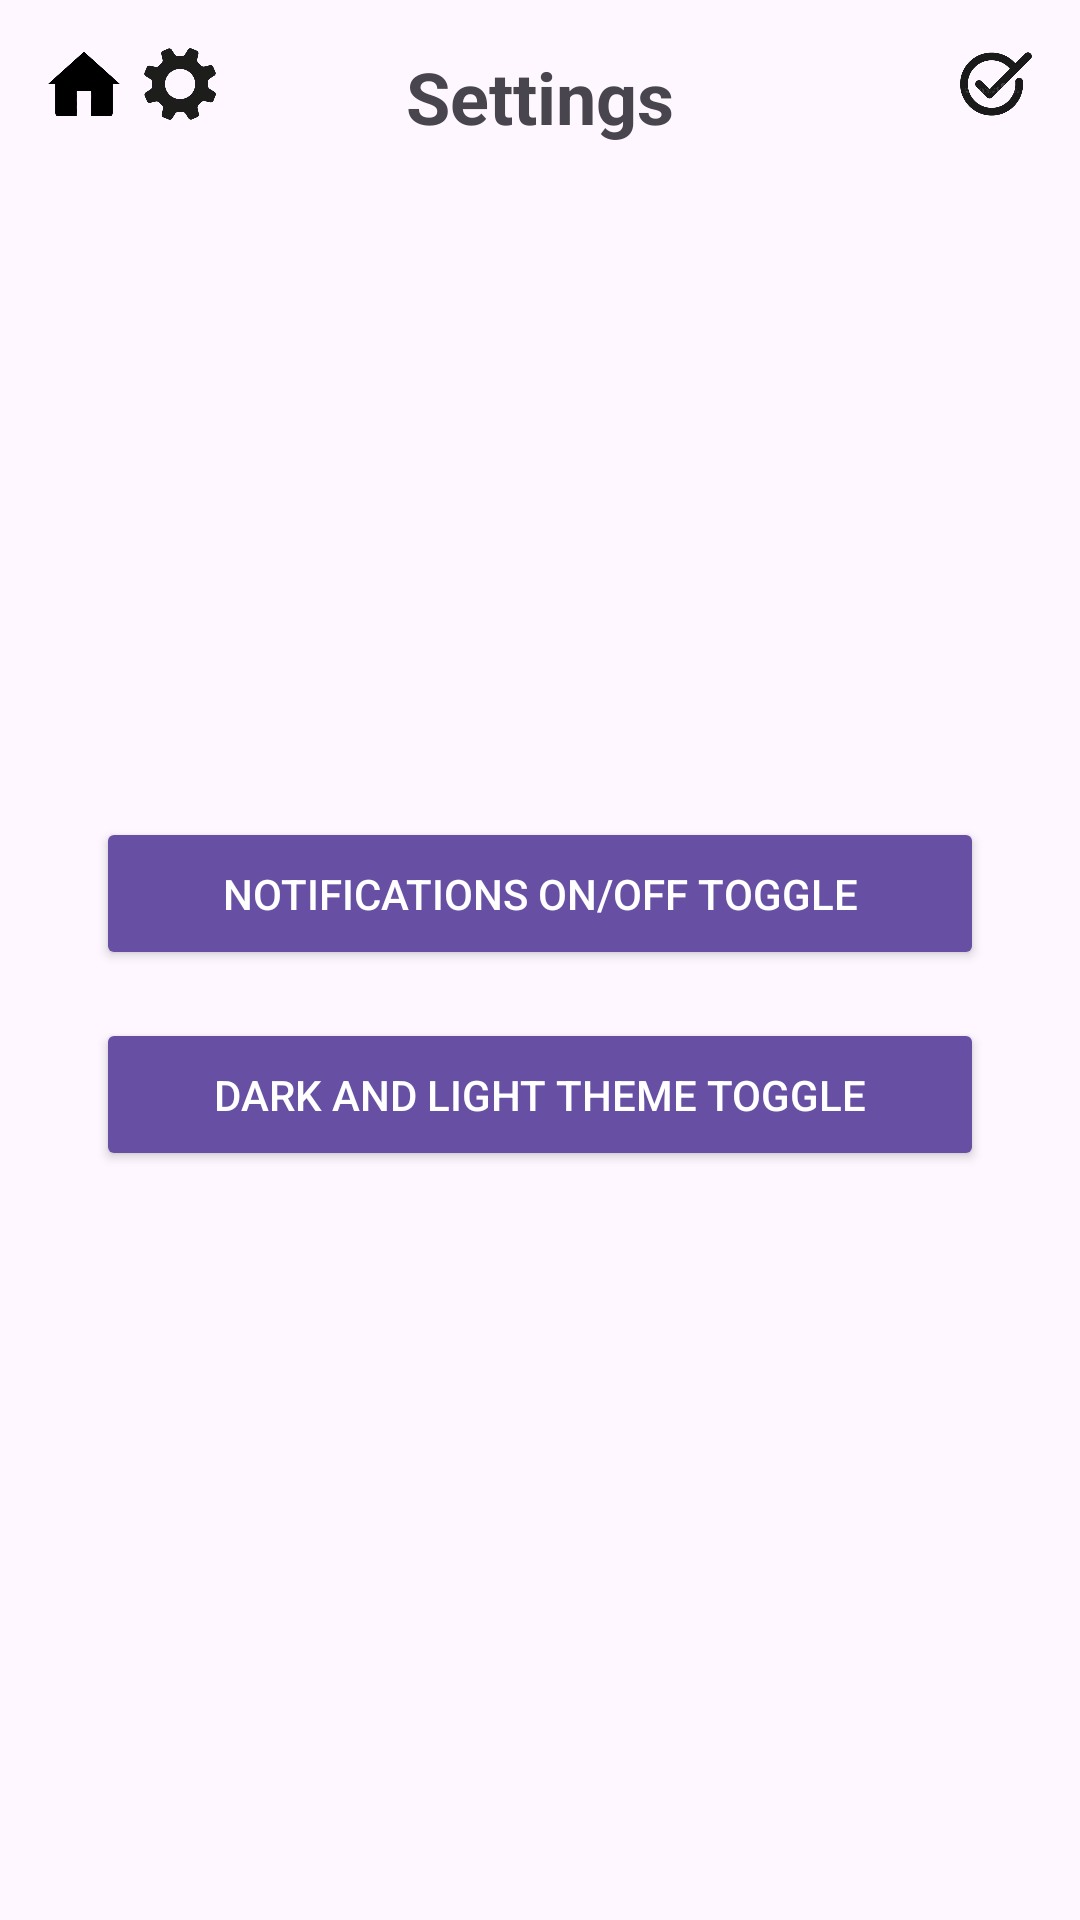

Named icons in this screenshot (1080*1920) and their centers, point (x, y):
Checkmark: point (996, 84)
Home: point (84, 84)
